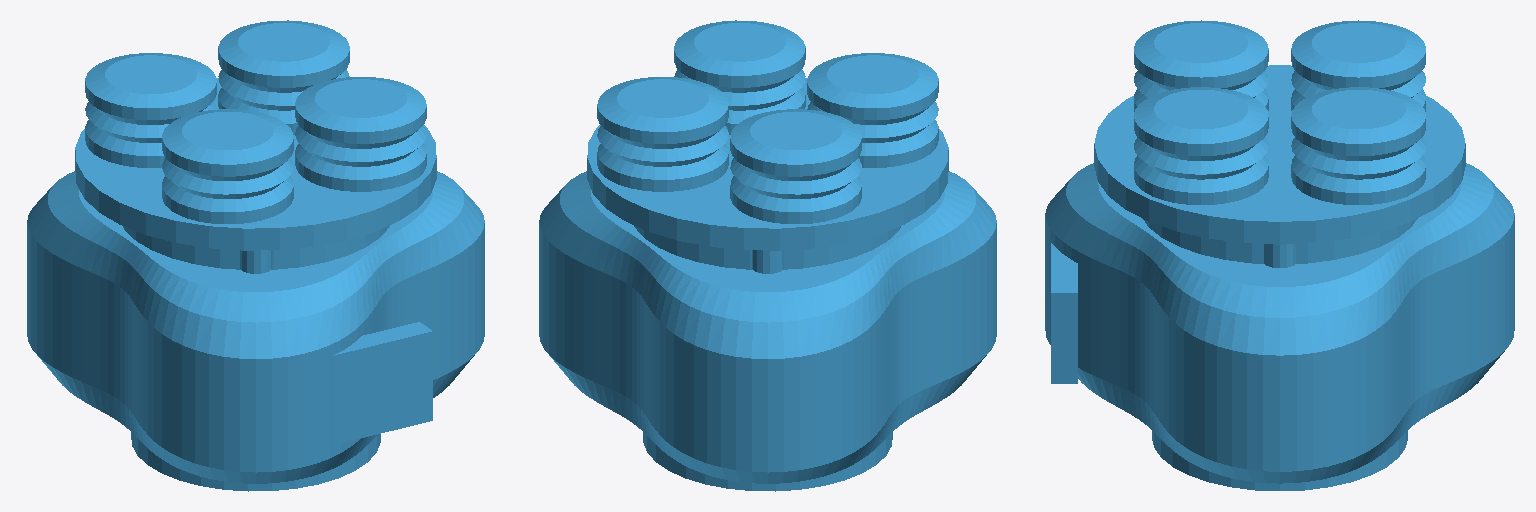
robot.urdf — vacuum_gripper_v1:
<?xml version="1.0"?>
<!--
  Vacuum Gripper V1: コボット向け電動真空グリッパの自作アセット (CC0-1.0)。
  カタログに gripper.vacuum のモデルが 1 つも無かったのを埋めるために著作した。

  ============================================================================
  参照実機: **Schmalz CobotPump ECBPi** (電動真空発生器 ECBPi 12 24V-DC M12-8)
    製品ページ (技術データ):
    https://www.schmalz.com/en/products/vacuum-technology-for-automation-301607/vacuum-components-301608/vacuum-generators-307617/electric-vacuum-generators-738973/electric-vacuum-generators-end-of-arm-739374/vacuum-generators-ecbpi-308294/10.03.01.00314
  ============================================================================

  **これは ECBPi の複製ではない。** 外観 (面取り・パネル位置・バヨネット爪・カップ形状)
  はすべて独自著作で、参照実機からは**公表されている数値だけ**を採っている。

  参照実機から採った値 (公式製品ページ / 取扱説明書 4.4-4.5 の公表値):
    - 外形 **D = ø151.5 mm** — **丸みを帯びた三角断面**が実機の姿。円筒ではない
    - 上部ボス **D2 = ø76 mm** / 全高 **L = 88.6 mm**
    - 質量 **0.75 kg** (本体のみ)
    - 負荷限界 **水平取付 max 100 N / 垂直取付 max 25 N (レバー長 100 mm)**
    - 最大真空 **75%** / 吸込量 **0-12 L/min** / 騒音 57 dBA
    - 吸着エンドエフェクタは**バヨネットで工具レス差し替え**という構成

  参照実機から**意図的に変えた点**:
    - 取付インタフェース: 実機は **3 x M4 / ボルト円 ø46 (Dmk1)** で、ロボット別の
      フランジプレートを介して付ける。本アセットは **ISO 9409-1-50-4-M6** に振り替え、
      **収録済みの UR5e / TM5-900 / tool-changer-a1 と直結できる**ようにした。
      取付面は参照実機の ø76 (D2) のままなので外径を削る必要はなく、その面に
      P.C.D 50 の 4-M6 と位置決め径 ø31.5 を載せている
    - 吸着プレート + ベローズカップ ø40 x 4 は**当方の設計** (参照実機ではバヨネットに
      付く別売エンドエフェクタで、2 カップ / 4 カップ・ベローズ / フラットの選択制)。
      質量 0.75 -> **1.0 kg** の差分はこのプレートとカップ分
    - 可搬は参照実機の**水平 100 N (約 10 kg)** をそのまま定格として採る。カップ 4 個の
      理論吸着力 (ø40, 75% 真空で 1 個あたり約 94 N) はこれを上回るので、
      **律速するのはポンプ/取付側**

  座標系 (botrail カタログ規約): Z-up / メートル。root リンク mount = ロボット
  フランジ接触面 (+Z がツール側)。tcp = カップ接触面 (mount から 118 mm)。

  visual: tools/generate_meshes.py が生成する ../meshes/{body,cups}.stl (手続き的著作)
  collision: URDF プリミティブのみ。三角断面の胴は**中央 1 本 + ローブ 3 本の円柱**で
          近似してある (外接円 1 本で包むと 3 面の平らな部分が 28 mm も太る)。
          表示パネルは胴から約 10 mm 出るので別途 box で持たせている
-->
<robot name="vacuum_gripper_v1">

  <link name="mount"/>

  <link name="body">
    <visual>
      <geometry>
        <mesh filename="../meshes/body.stl"/>
      </geometry>
    </visual>
    <visual>
      <geometry>
        <mesh filename="../meshes/cups.stl"/>
      </geometry>
    </visual>

    <collision><!-- ISO 9409-1 pilot spigot ø31.5 (seats in the robot flange bore) -->
      <origin xyz="0 0 -0.0025"/>
      <geometry><cylinder radius="0.01575" length="0.005"/></geometry>
    </collision>
    <collision><!-- upper boss, ECBPi D2 = ø76 -->
      <origin xyz="0 0 0.005"/>
      <geometry><cylinder radius="0.038" length="0.010"/></geometry>
    </collision>
    <collision><!-- tri-lobe body: central core (inscribed radius) -->
      <origin xyz="0 0 0.043"/>
      <geometry><cylinder radius="0.0478" length="0.066"/></geometry>
    </collision>
    <collision><!-- tri-lobe body: lobe at 0 deg -->
      <origin xyz="0.04775 0 0.043"/>
      <geometry><cylinder radius="0.028" length="0.066"/></geometry>
    </collision>
    <collision><!-- tri-lobe body: lobe at 120 deg -->
      <origin xyz="-0.023875 0.041353 0.043"/>
      <geometry><cylinder radius="0.028" length="0.066"/></geometry>
    </collision>
    <collision><!-- tri-lobe body: lobe at 240 deg -->
      <origin xyz="-0.023875 -0.041353 0.043"/>
      <geometry><cylinder radius="0.028" length="0.066"/></geometry>
    </collision>
    <collision><!-- display panel (protrudes ~10 mm past the body) -->
      <origin xyz="0 -0.06775 0.043"/>
      <geometry><box size="0.046 0.008 0.030"/></geometry>
    </collision>
    <collision><!-- bayonet ring (tool-less suction plate change) -->
      <origin xyz="0 0 0.0823"/>
      <geometry><cylinder radius="0.042" length="0.0126"/></geometry>
    </collision>
    <collision><!-- suction plate -->
      <origin xyz="0 0 0.0923"/>
      <geometry><cylinder radius="0.055" length="0.0074"/></geometry>
    </collision>
    <collision><!-- bellows cup 1 -->
      <origin xyz="0.023335 0.023335 0.107"/>
      <geometry><cylinder radius="0.020" length="0.022"/></geometry>
    </collision>
    <collision><!-- bellows cup 2 -->
      <origin xyz="-0.023335 0.023335 0.107"/>
      <geometry><cylinder radius="0.020" length="0.022"/></geometry>
    </collision>
    <collision><!-- bellows cup 3 -->
      <origin xyz="-0.023335 -0.023335 0.107"/>
      <geometry><cylinder radius="0.020" length="0.022"/></geometry>
    </collision>
    <collision><!-- bellows cup 4 -->
      <origin xyz="0.023335 -0.023335 0.107"/>
      <geometry><cylinder radius="0.020" length="0.022"/></geometry>
    </collision>

    <!-- 質量 1.0 kg = ECBPi 本体 0.75 kg + 吸着プレート/カップ 0.25 kg (当方の追加分)。
         慣性は実効 ø110 x 120 の中実円柱近似 -->
    <inertial>
      <origin xyz="0 0 0.048"/>
      <mass value="1.0"/>
      <inertia ixx="1.96e-3" ixy="0.0" ixz="0.0" iyy="1.96e-3" iyz="0.0" izz="1.51e-3"/>
    </inertial>
  </link>

  <!-- 吸着面 (カップ接触面)。ワークはここに吸い付く -->
  <link name="tcp"/>

  <joint name="body_joint" type="fixed">
    <parent link="mount"/>
    <child link="body"/>
  </joint>

  <joint name="tcp_joint" type="fixed">
    <origin xyz="0 0 0.118"/>
    <parent link="body"/>
    <child link="tcp"/>
  </joint>

</robot>

--- Render facts (derived) ---
3 views of the same robot in one strip: view 1: azimuth 30°, elevation 25°; view 2: azimuth 150°, elevation 25°; view 3: azimuth 270°, elevation 25° (orthographic).
Robot: vacuum_gripper_v1 — 3 links, 2 joints (2 fixed); root link mount; default pose: every joint at zero.
Links seen in each view (by area): view 1: body; view 2: body; view 3: body.
Link boxes in pixels (x1,y1,x2,y2): body: [27, 20, 484, 491]; body: [539, 20, 996, 491]; body: [1045, 20, 1514, 490].
Bounding box of the posed robot: 0.1308 × 0.139 × 0.123 m (x, y, z).
Meshes: 2 distinct files referenced, 2 mesh visuals loaded (2 binary STL).
